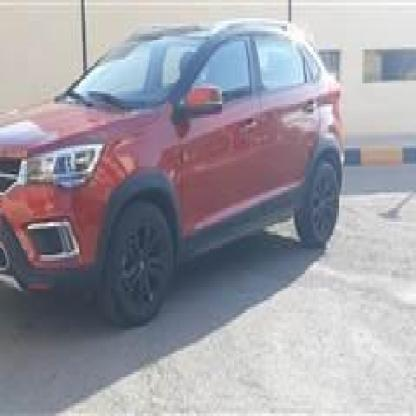Car: (0, 3, 347, 332)
